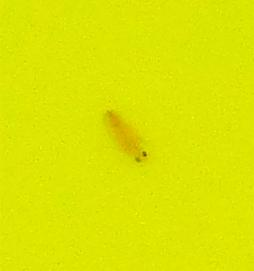Hemiptera: (100, 100, 154, 171)
